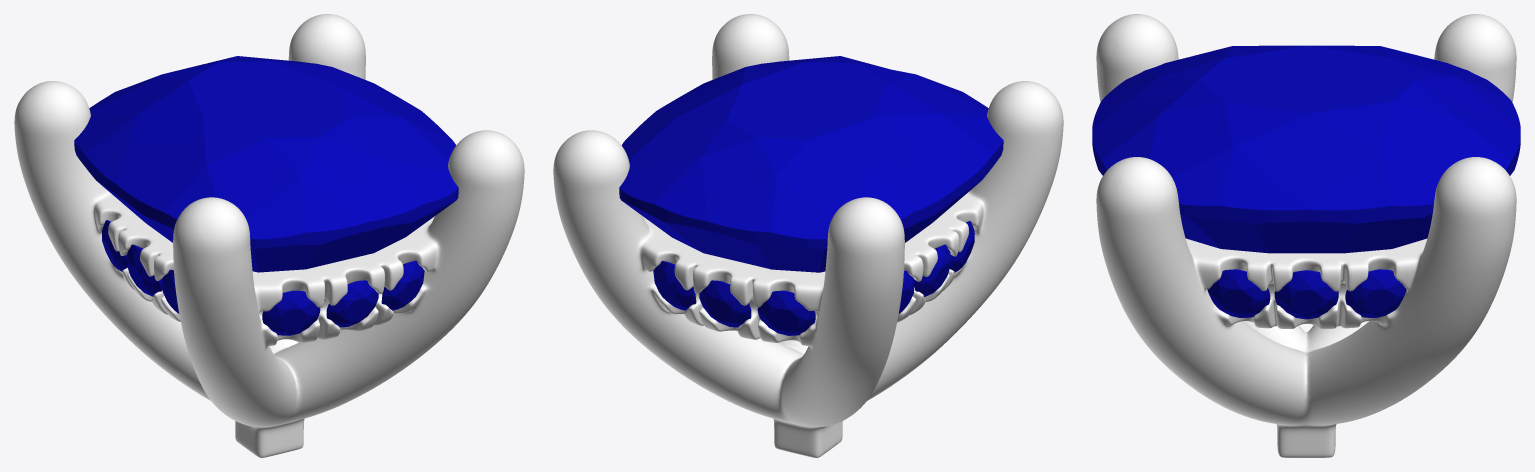
Rendered from Cushion.glb.
The picture shows the model from 3 angles, left to right: view 1: azimuth 30°, elevation 25°; view 2: azimuth 150°, elevation 25°; view 3: azimuth 270°, elevation 25°; orthographic projection. The views are drawn at different scales.
Visible parts, largest first — view 1: /GSMOD388300-HIDDEN HALO_CUSHION_IJ.3dm, Diamond_Cushion, Diamond_Round (×5); view 2: /GSMOD388300-HIDDEN HALO_CUSHION_IJ.3dm, Diamond_Cushion, Diamond_Round (×5); view 3: /GSMOD388300-HIDDEN HALO_CUSHION_IJ.3dm, Diamond_Cushion, Diamond_Round (×3).
Part boxes in pixels (x1,y1,x2,y2): /GSMOD388300-HIDDEN HALO_CUSHION_IJ.3dm: (14,14,524,457); Diamond_Cushion: (74,56,458,272); Diamond_Round (×5): (102,220,424,335); /GSMOD388300-HIDDEN HALO_CUSHION_IJ.3dm: (553,14,1063,457); Diamond_Cushion: (619,56,1003,272); Diamond_Round (×5): (653,221,974,335); /GSMOD388300-HIDDEN HALO_CUSHION_IJ.3dm: (1096,14,1516,457); Diamond_Cushion: (1092,45,1520,253); Diamond_Round (×3): (1207,269,1406,319).
Size of the model in its own units: 7.61 by 7.35 by 7.76.
